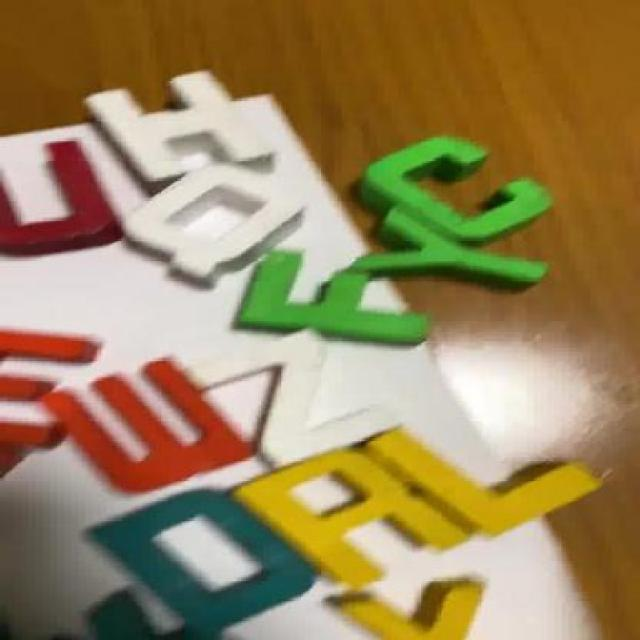C: (364, 140, 556, 228)
D: (102, 493, 320, 624)
F: (240, 258, 438, 347)
H: (91, 74, 287, 174)
L: (377, 434, 618, 532)
Q: (128, 172, 310, 278)
R: (245, 455, 463, 580)
U: (0, 141, 115, 255)
W: (57, 363, 257, 486)
Y: (353, 216, 570, 287)
Z: (211, 333, 394, 462)
